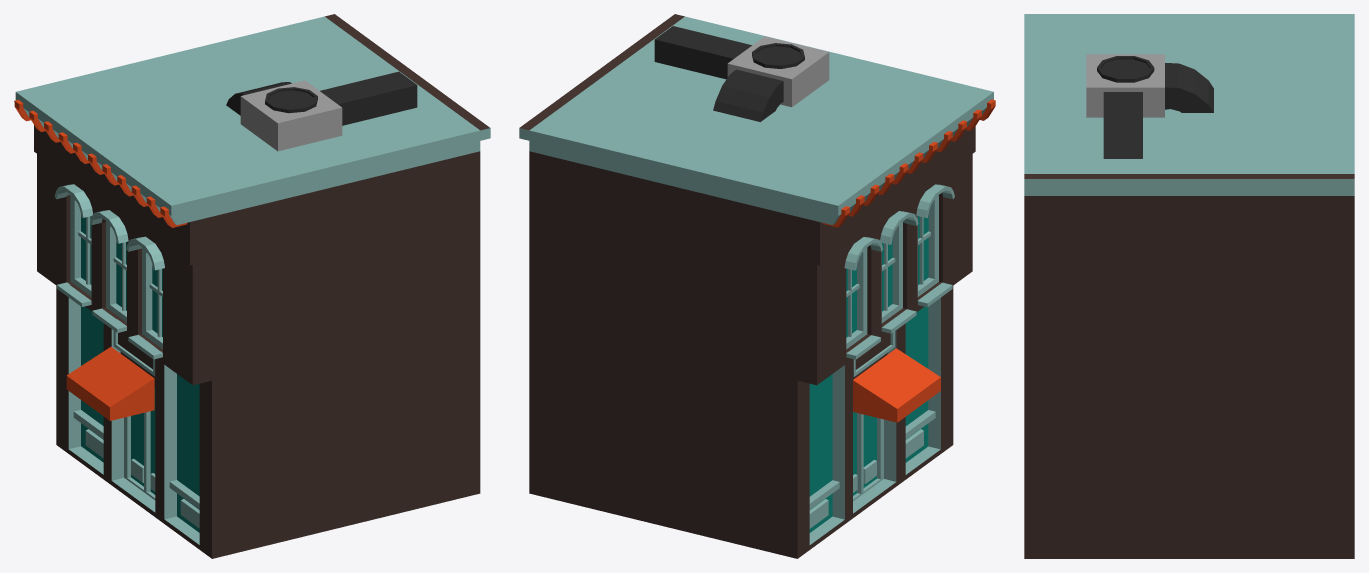
File: House_02.FBX
3 renders of one model, left to right at view 1: azimuth 30°, elevation 25°; view 2: azimuth 150°, elevation 25°; view 3: azimuth 270°, elevation 25°, orthographic. The views are drawn at different scales.
Parts seen in each view (by area): view 1: House_02; view 2: House_02; view 3: House_02.
Boxes of the visible parts, box(x1,y1,x2,y2) form: House_02: box(14, 14, 490, 558); House_02: box(519, 14, 995, 558); House_02: box(1024, 14, 1354, 558).
Bounding box in the file's own units: 21.92 × 18.3 × 25.57.
